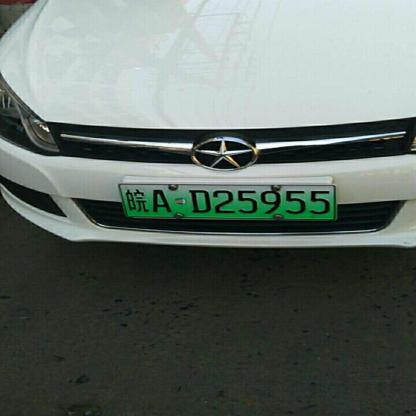lp: (118, 184, 336, 219)
